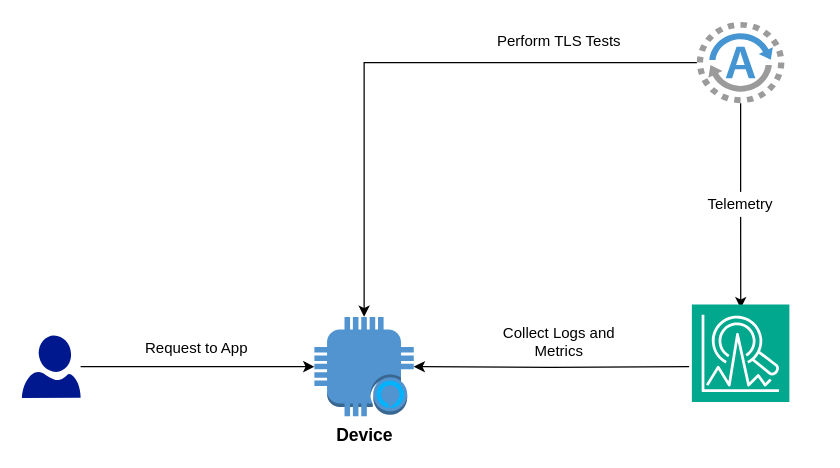
Some shapes in this 840 by 468 pixel diagram are drawn without their labels. Here are the shapes that lost their labels. From the top down, the centre of each, then its label:
the point at 740,61: Agent
the point at 50,366: Client
the point at 740,352: Monitoring Service
